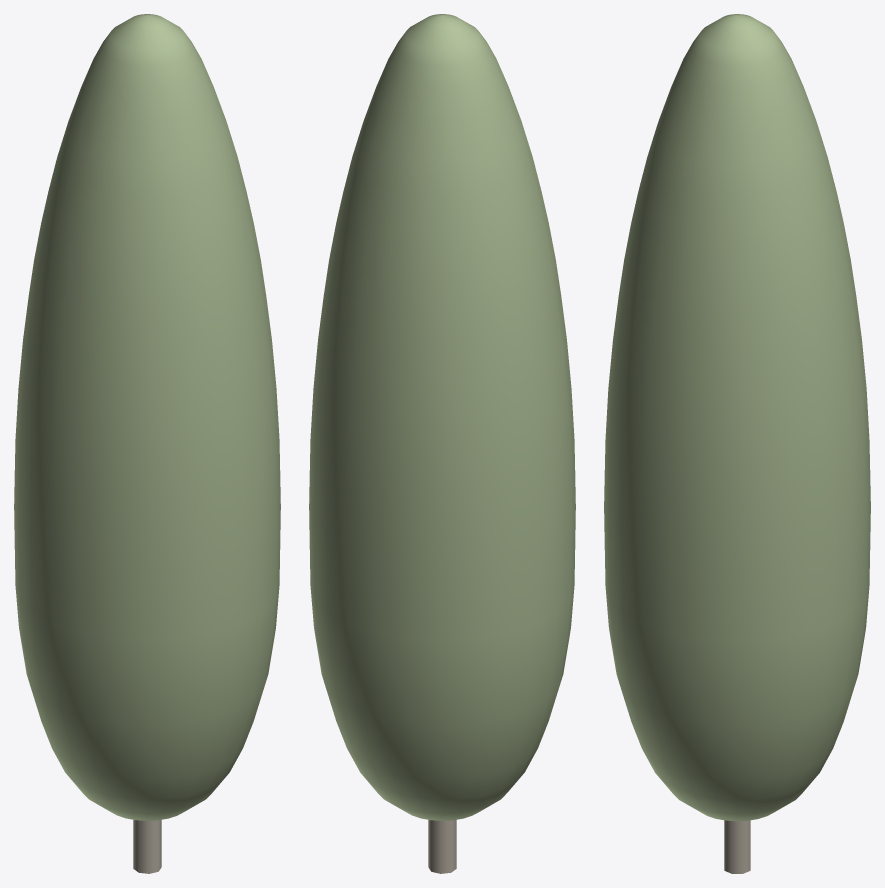
Rendered from CupressusLeylandii.glb.
3 renders of one model, left to right at view 1: azimuth 30°, elevation 25°; view 2: azimuth 150°, elevation 25°; view 3: azimuth 270°, elevation 25°, orthographic.
Visible parts, largest first — view 1: Leyland_Cypress__Schematic_LOD3; view 2: Leyland_Cypress__Schematic_LOD3; view 3: Leyland_Cypress__Schematic_LOD3.
Part boxes in pixels (x1,y1,x2,y2): Leyland_Cypress__Schematic_LOD3: (14,14,280,873); Leyland_Cypress__Schematic_LOD3: (309,14,575,873); Leyland_Cypress__Schematic_LOD3: (604,14,870,873).
Bounding box in the file's own units: 2.06 × 7.26 × 2.06.
